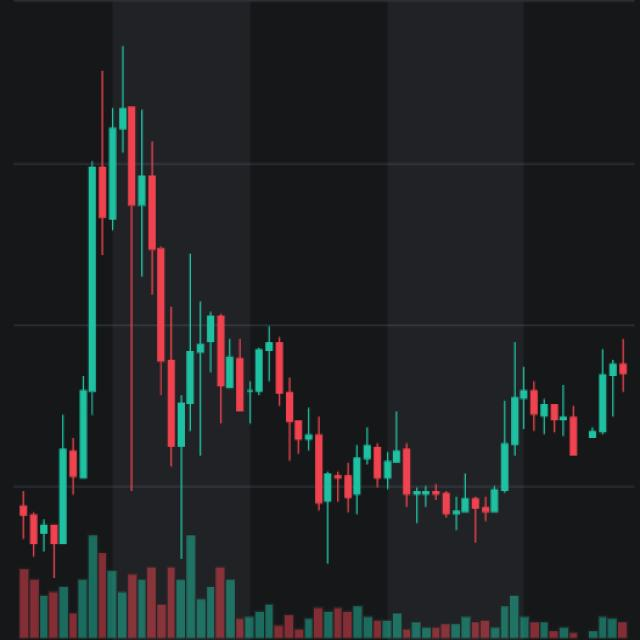Channel-up: (297, 315, 640, 612)
Double-Top: (178, 286, 315, 457)
